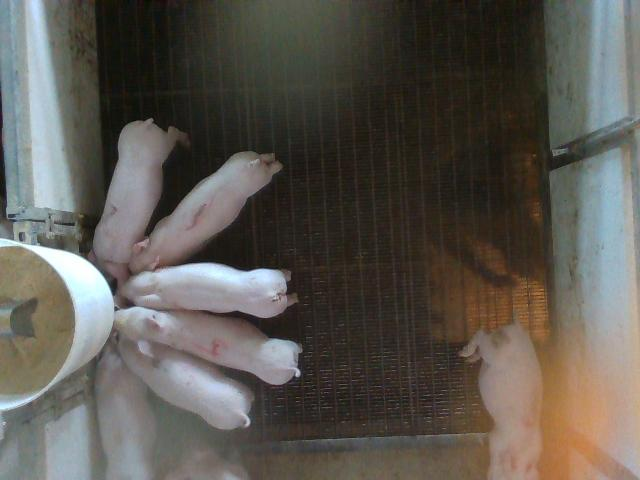pig-1: (129, 151, 282, 274)
pig-3: (459, 320, 542, 478)
pig-4: (115, 306, 301, 384)
